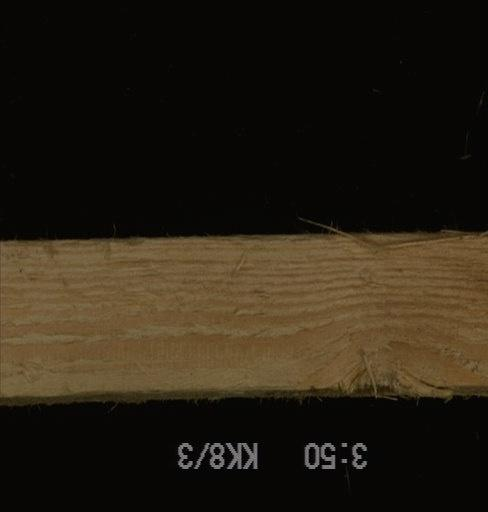edge_knot: (284, 353, 447, 398)
